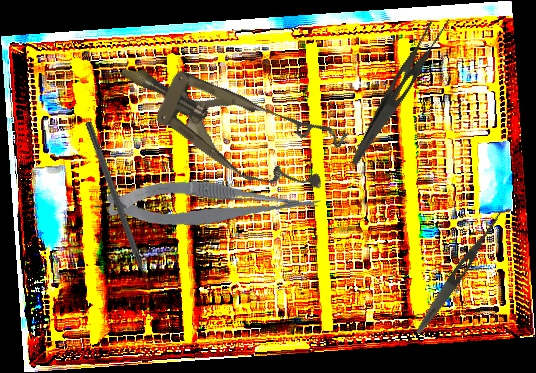Dressing Forceps: (349, 7, 453, 176), (412, 206, 507, 337)
Hook Surgical: (83, 120, 157, 301)
Micro Scissor: (103, 171, 323, 241)
Speculum: (103, 32, 349, 211)
